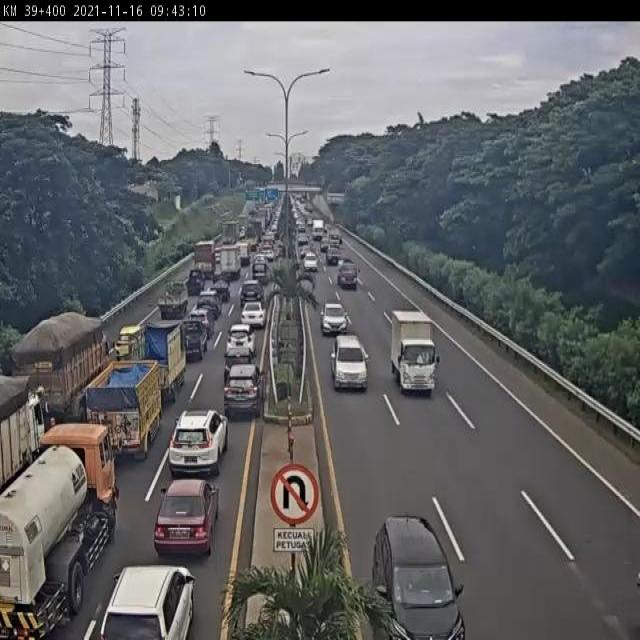Car: (370, 515, 464, 638), (97, 564, 197, 640), (153, 478, 220, 558), (169, 409, 229, 478), (330, 333, 369, 392), (223, 365, 264, 419), (220, 346, 256, 382), (114, 324, 145, 361), (320, 302, 350, 337), (227, 323, 258, 356), (188, 308, 216, 338), (240, 300, 267, 330), (198, 288, 222, 318), (240, 279, 264, 305), (250, 262, 268, 283), (302, 252, 318, 273), (327, 244, 342, 265), (252, 253, 268, 267), (262, 244, 276, 260), (300, 245, 312, 259), (320, 239, 329, 253)
Truck: (0, 421, 119, 640), (5, 311, 110, 425), (85, 357, 163, 464), (0, 373, 49, 492), (389, 310, 441, 396), (140, 320, 187, 402), (157, 281, 188, 319), (193, 239, 218, 282), (185, 320, 210, 362), (216, 242, 242, 281), (336, 260, 361, 290), (211, 271, 233, 302), (221, 220, 239, 253), (186, 268, 206, 296), (255, 203, 272, 235), (236, 240, 254, 267), (236, 214, 249, 239), (311, 219, 325, 240), (244, 221, 258, 241), (246, 234, 258, 254), (245, 203, 257, 221)
